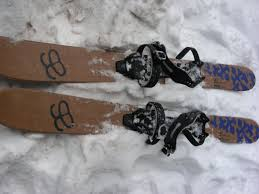skis: (1, 37, 257, 144)
